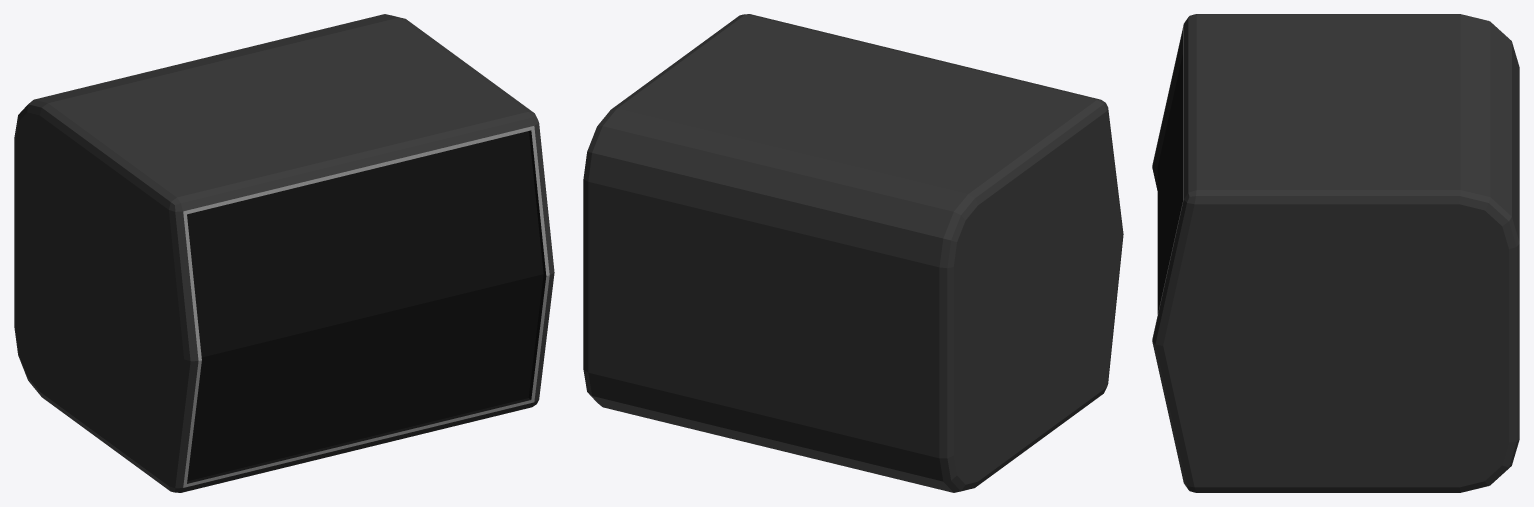
Rendered from Prop_HomeTheater_01.fbx.
3 views of the same model, side by side, from view 1: azimuth 30°, elevation 25°; view 2: azimuth 150°, elevation 25°; view 3: azimuth 270°, elevation 25° (orthographic). The views are drawn at different scales.
Visible parts, largest first — view 1: Prop_HomeTheater_01; view 2: Prop_HomeTheater_01; view 3: Prop_HomeTheater_01.
Boxes of the visible parts, <box> form: Prop_HomeTheater_01: <box>14,14,554,492</box>; Prop_HomeTheater_01: <box>583,14,1123,492</box>; Prop_HomeTheater_01: <box>1152,14,1519,492</box>.
Size of the model in its own units: 19.49 by 14.89 by 16.39.
